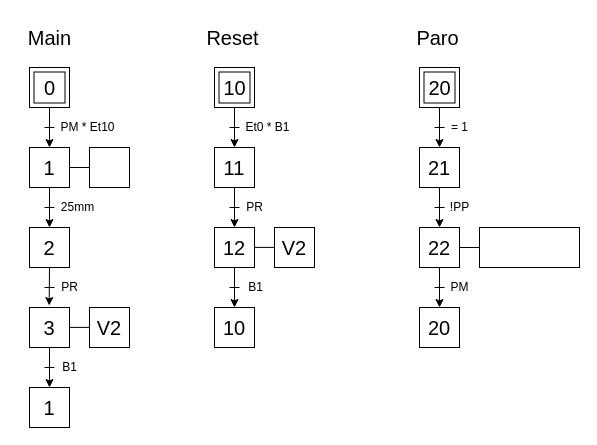
Some shapes in this 597 by 445 pixel diagram are drawn without their labels. Here are the shapes that lost their labels. From the top down, the centre of each, then its label:
At point 109,167: "V1".
At point 529,247: "Goto Et0".
